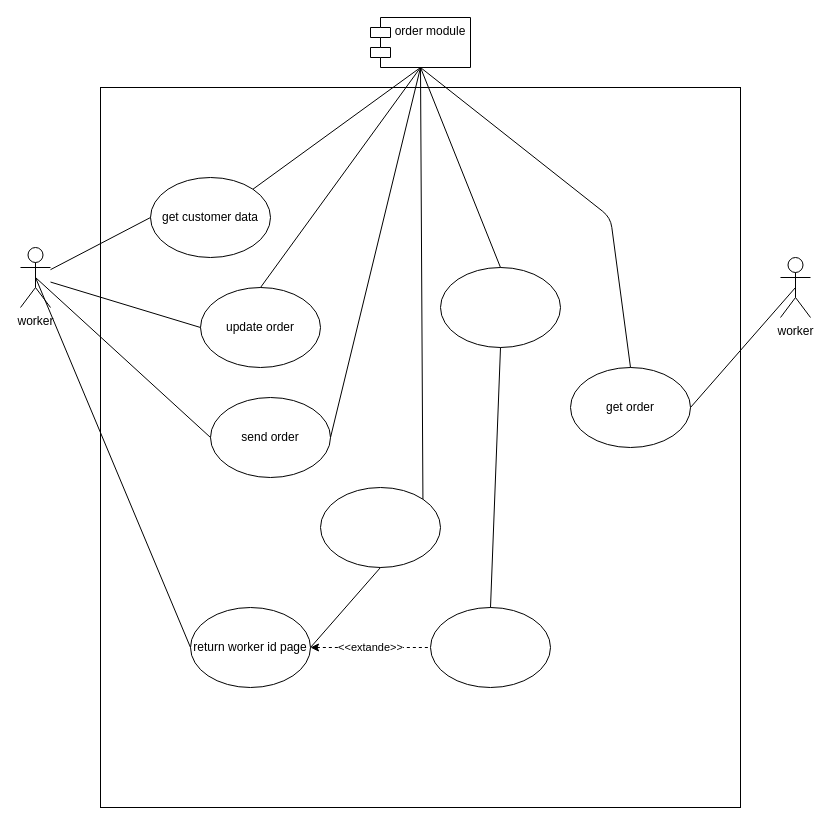
Some shapes in this 830 by 825 pixel diagram are drawn without their labels. Each missing label, with the centre of its shape:
"check if worker active" goes at point 380,527.
"get menu" goes at point 500,307.
"return menu page" goes at point 490,647.
